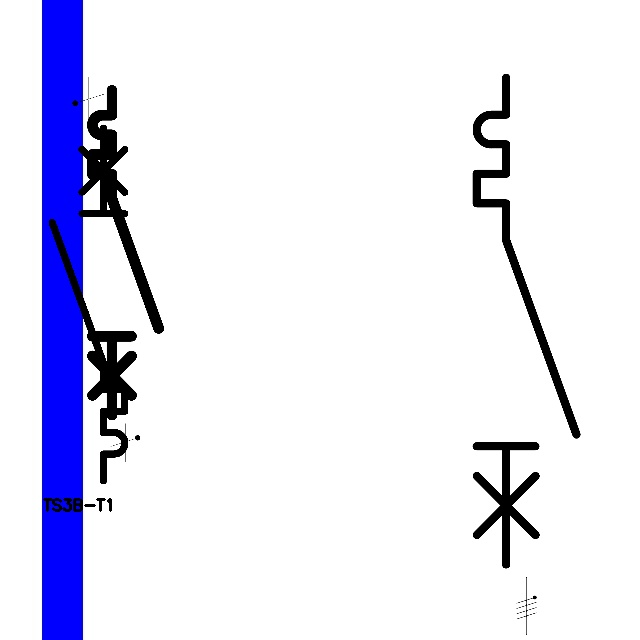interruptor_termomagnetico: (464, 65, 589, 577), (43, 119, 134, 490), (84, 82, 167, 423)
